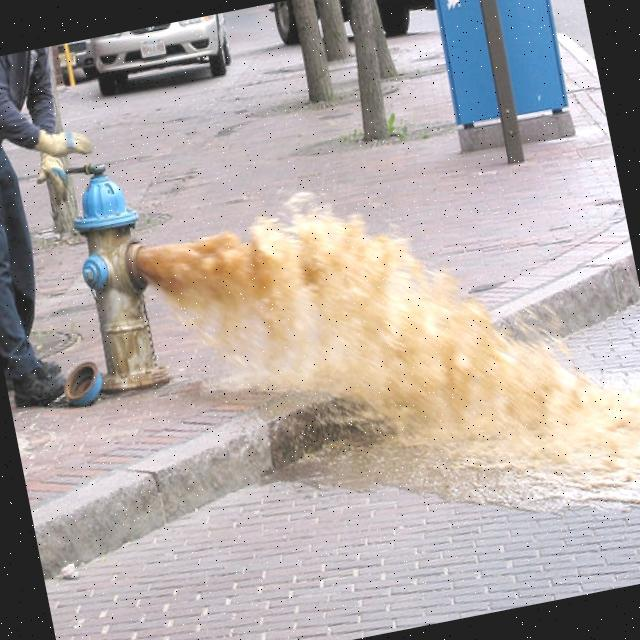fire_hydrant: (61, 164, 170, 403)
